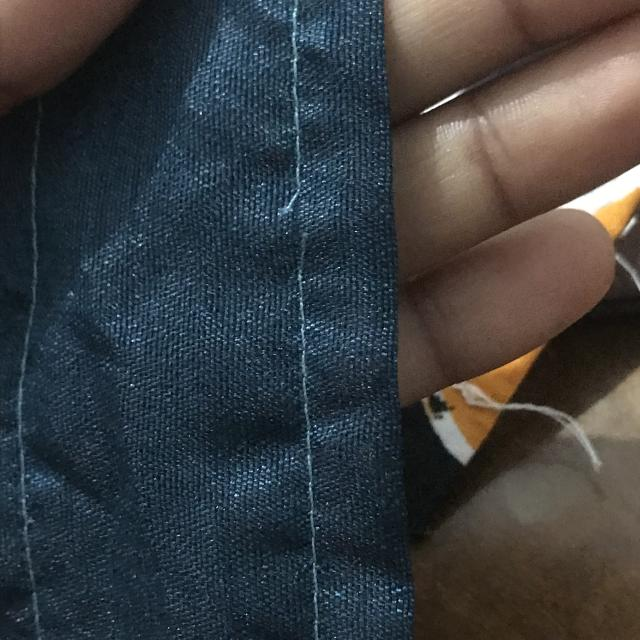broken: (265, 161, 323, 286)
good: (282, 327, 333, 497)
